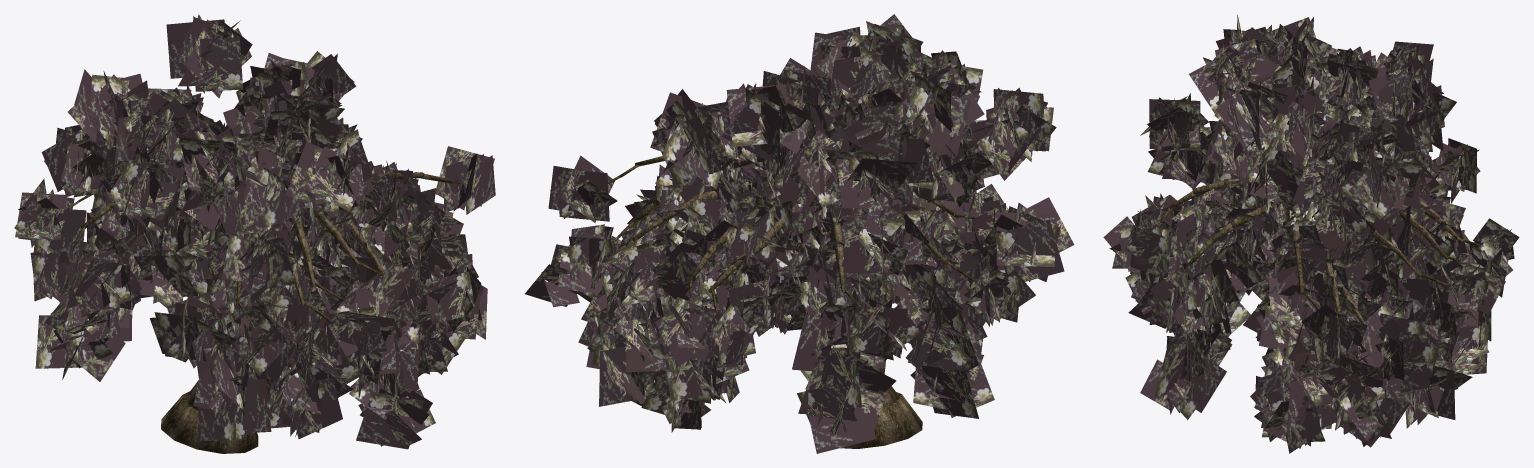
The model's file is blossom_8.glb.
3 renders of one model, left to right at view 1: azimuth 30°, elevation 25°; view 2: azimuth 150°, elevation 25°; view 3: azimuth 270°, elevation 25°, orthographic. The views are drawn at different scales.
Parts seen in each view (by area): view 1: blossom; view 2: blossom; view 3: blossom.
Boxes of the visible parts, box(x1,y1,x2,y2) form: blossom: box(14, 14, 495, 453); blossom: box(525, 14, 1074, 453); blossom: box(1103, 15, 1519, 453).
Size of the model in its own units: 24.57 by 18.74 by 20.62.
2 materials, 2 textured.
